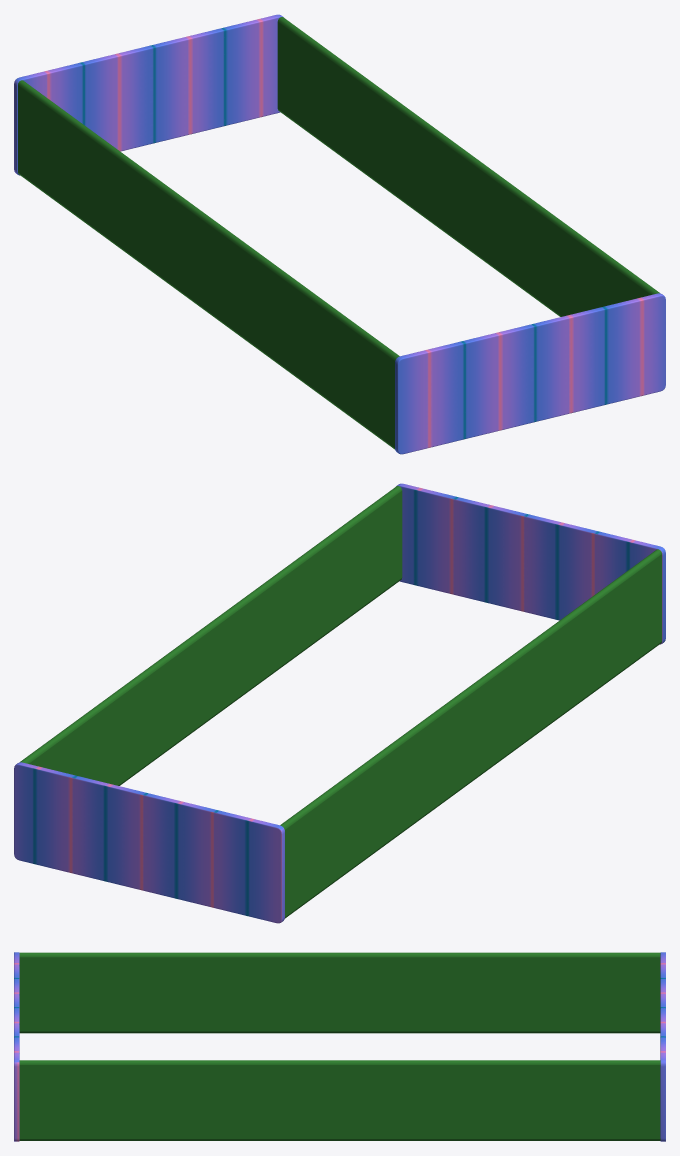
The model's file is SM_Drawer_Divider_05.fbx.
The picture shows the model from 3 angles, top to bottom: view 1: azimuth 30°, elevation 25°; view 2: azimuth 150°, elevation 25°; view 3: azimuth 270°, elevation 25°; orthographic projection. The views are drawn at different scales.
Parts seen in each view (by area): view 1: SM_Drawer_Divider_05; view 2: SM_Drawer_Divider_05; view 3: SM_Drawer_Divider_05.
Part boxes in pixels (x1=…): SM_Drawer_Divider_05: x1=14, y1=14, x2=665, y2=454; SM_Drawer_Divider_05: x1=14, y1=483, x2=665, y2=923; SM_Drawer_Divider_05: x1=14, y1=952, x2=665, y2=1141.
Size of the model in its own units: 19 by 6.5 by 47.09.
Materials: 2 (1 with a texture image).
